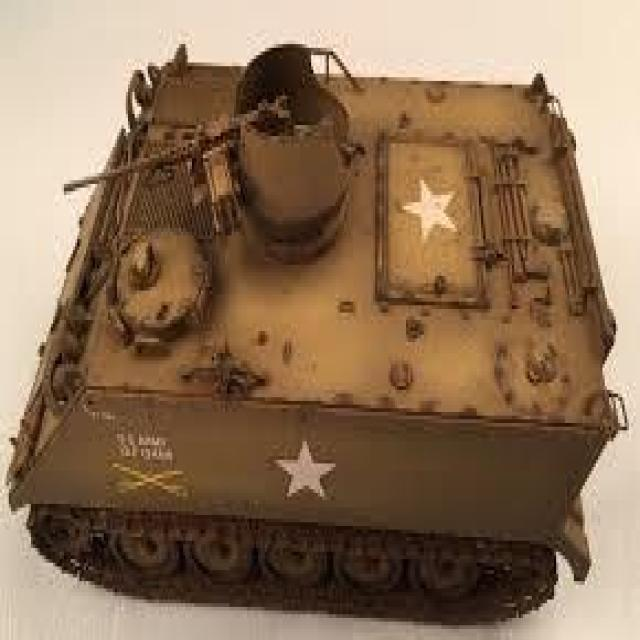Tanks: (6, 42, 614, 627)
